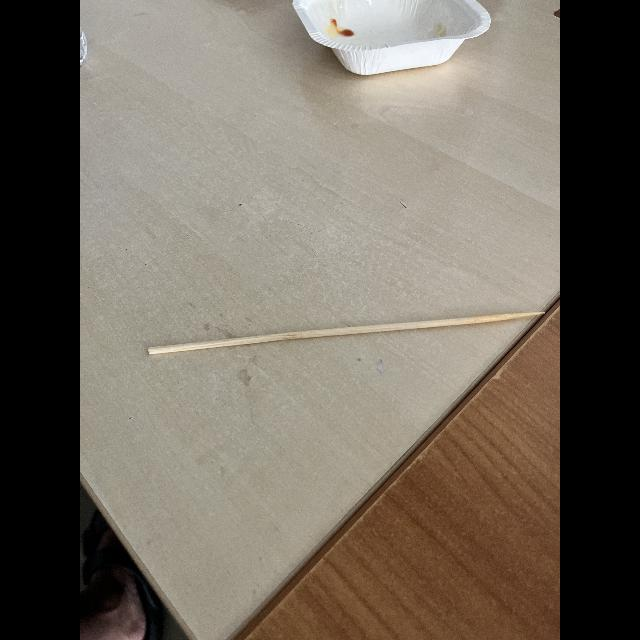cardboard_bowl: (290, 0, 506, 98)
stick: (138, 286, 556, 392)
